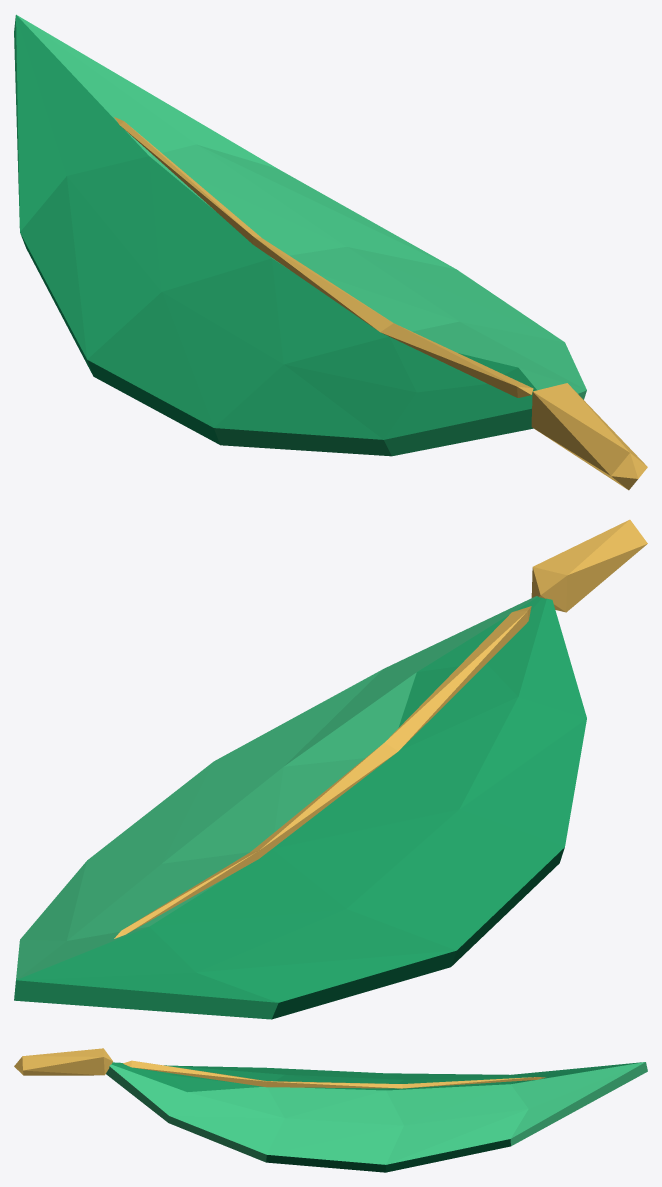
File: KirinVFX_LeafEmerald.fbx
3 renders of one model, top to bottom at view 1: azimuth 30°, elevation 25°; view 2: azimuth 150°, elevation 25°; view 3: azimuth 270°, elevation 25°, orthographic. The views are drawn at different scales.
Parts seen in each view (by area): view 1: KirinVFX_LeafEmerald_Body; view 2: KirinVFX_LeafEmerald_Body; view 3: KirinVFX_LeafEmerald_Body.
Boxes of the visible parts, x1=… form: KirinVFX_LeafEmerald_Body: x1=14, y1=14, x2=647, y2=490; KirinVFX_LeafEmerald_Body: x1=14, y1=519, x2=647, y2=1019; KirinVFX_LeafEmerald_Body: x1=14, y1=1048, x2=647, y2=1172.
Bounding box in the file's own units: 0.24 × 0.0925 × 0.7022.
Materials: 1 (1 with a texture image).
